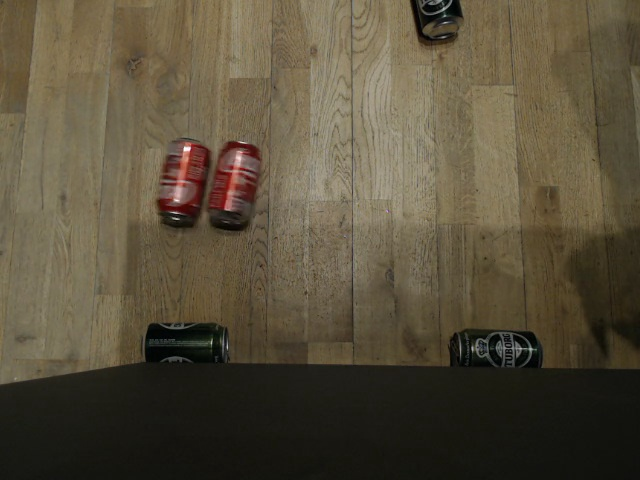beer: (138, 319, 232, 364), (448, 326, 541, 369), (408, 0, 466, 43)
cola: (152, 136, 213, 225), (206, 139, 260, 225)
